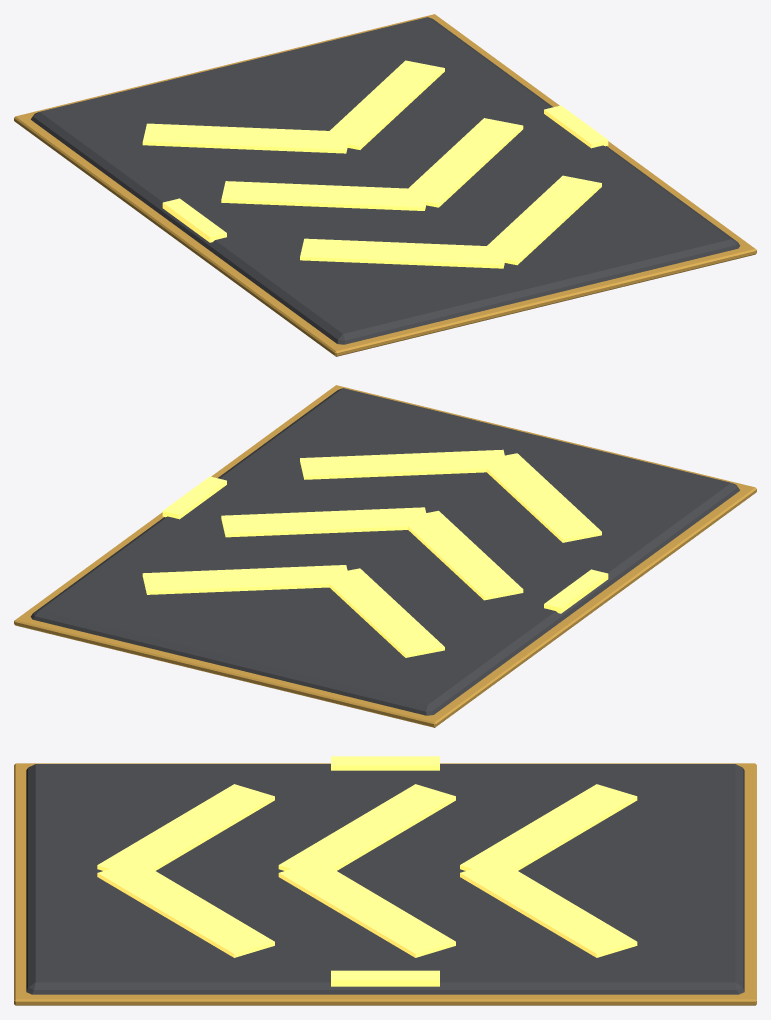
File: heatsinkBoostPad.e58b4f3c.glb
3 views of the same model, one above another, from view 1: azimuth 30°, elevation 25°; view 2: azimuth 150°, elevation 25°; view 3: azimuth 270°, elevation 25° (orthographic). The views are drawn at different scales.
Visible parts, largest first — view 1: boost_pad; view 2: boost_pad; view 3: boost_pad.
Boxes of the visible parts, x1,y1,x2,y2 form: boost_pad: (14,14,756,356); boost_pad: (14,385,756,727); boost_pad: (14,756,756,1005).
Size of the model in its own units: 6.2 by 0.24 by 8.2.
